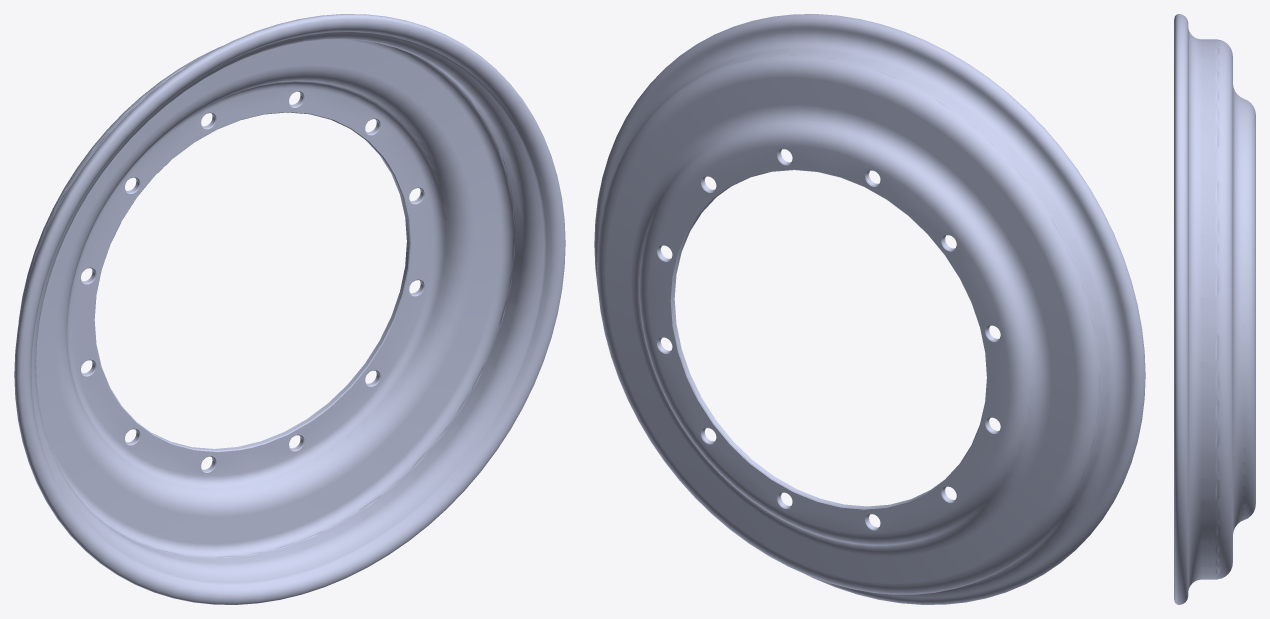
The model's file is Keizer_FSAE_Wheel_10x7_25_1inch_Offset__Kiezer_FSAE_Wheel_Outer_Half_10x1_25_2.dae.
The picture shows the model from 3 angles, left to right: view 1: azimuth 30°, elevation 25°; view 2: azimuth 150°, elevation 25°; view 3: azimuth 270°, elevation 25°; orthographic projection. The views are drawn at different scales.
Parts seen in each view (by area): view 1: node0; view 2: node0; view 3: node0.
Part boxes in pixels (left/top/right/bottom): node0: left=14, top=14, right=565, bottom=604; node0: left=594, top=14, right=1145, bottom=604; node0: left=1174, top=14, right=1255, bottom=604.
Size of the model in its own units: 0.2771 by 0.2769 by 0.0384.
